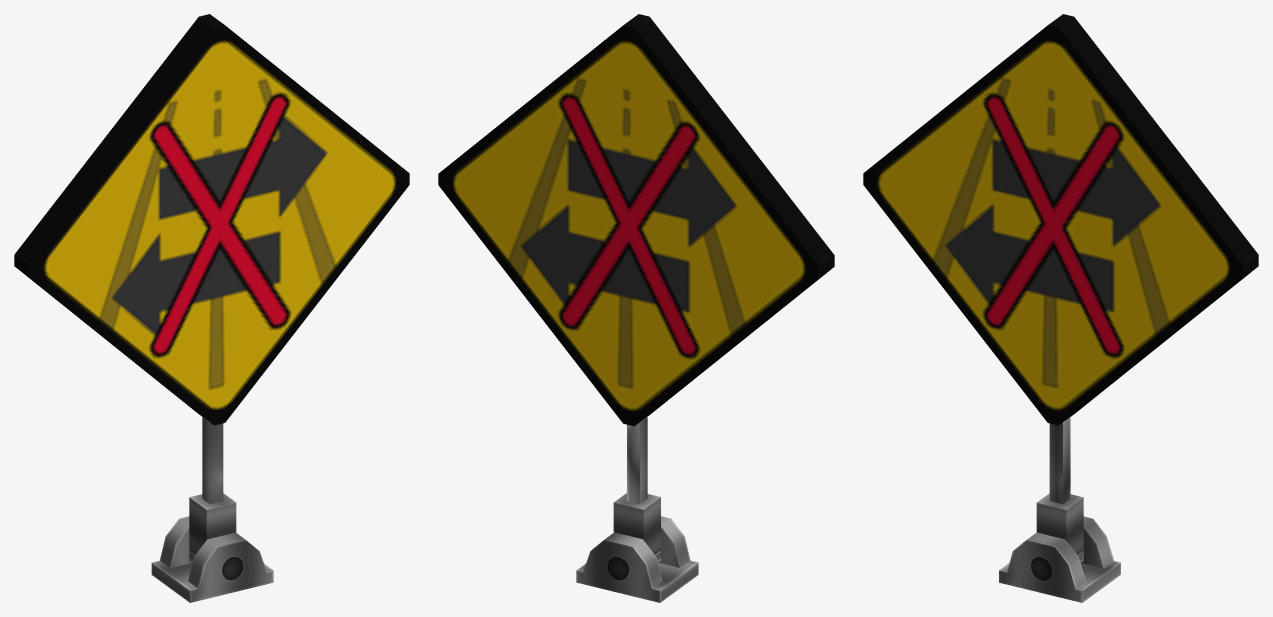
Rendered from Lane_keeping.FBX.
The picture shows the model from 3 angles, left to right: view 1: azimuth 30°, elevation 25°; view 2: azimuth 150°, elevation 25°; view 3: azimuth 330°, elevation 25°; orthographic projection.
Parts seen in each view (by area): view 1: Lane_keeping_02, Lane_keeping_01; view 2: Lane_keeping_02, Lane_keeping_01; view 3: Lane_keeping_02, Lane_keeping_01.
Part boxes in pixels (x1,y1,x2,y2): Lane_keeping_02: [14, 14, 409, 562]; Lane_keeping_01: [151, 516, 273, 602]; Lane_keeping_02: [438, 14, 834, 562]; Lane_keeping_01: [576, 516, 698, 602]; Lane_keeping_02: [863, 14, 1258, 562]; Lane_keeping_01: [999, 516, 1120, 602].
Bounding box in the file's own units: 0.4811 × 0.6741 × 0.0845.
